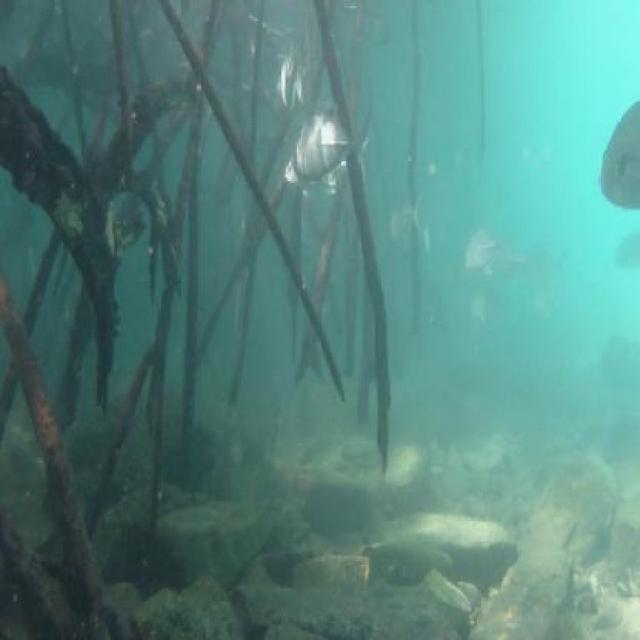Caranx_sexfasciatus_juvenile: (290, 112, 372, 191), (594, 91, 640, 209), (381, 188, 436, 274), (268, 146, 337, 206), (521, 239, 568, 313), (266, 50, 314, 119), (486, 248, 532, 303), (464, 224, 502, 282), (607, 222, 640, 274)
